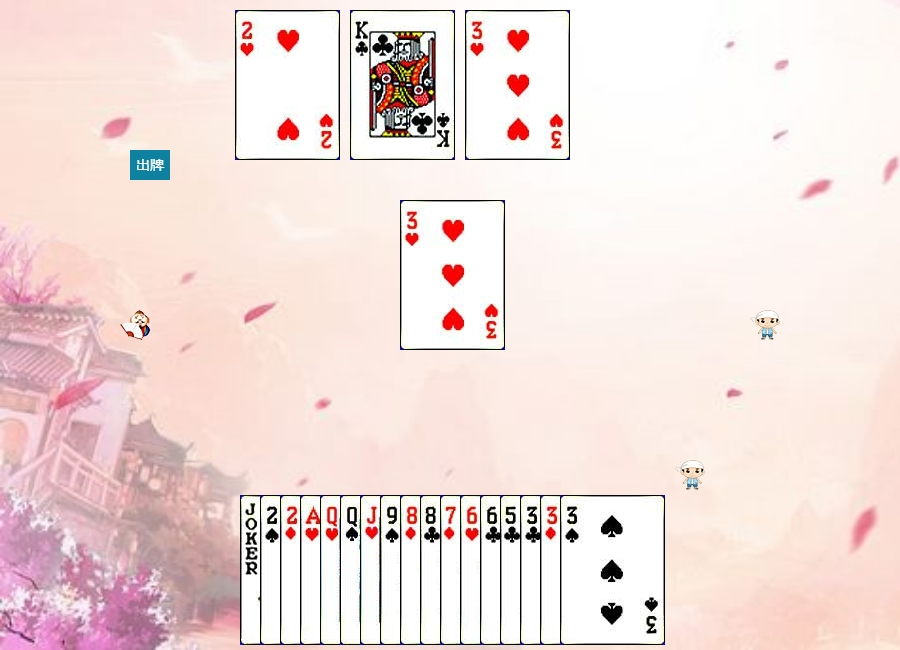11~3: (360, 495, 465, 645)
12~3: (320, 495, 425, 645)
12~4: (340, 495, 445, 645)
13~2: (350, 10, 455, 160)
14~3: (300, 495, 405, 645)
15~1: (280, 495, 385, 645)
15~3: (235, 10, 340, 160)
15~4: (260, 495, 365, 645)
17~3: (240, 495, 345, 645)
3~1: (540, 495, 645, 645)
3~2: (520, 495, 625, 645)
3~3: (465, 10, 570, 160), (400, 200, 505, 350)
3~4: (560, 495, 665, 645)
5~2: (500, 495, 605, 645)
6~2: (480, 495, 585, 645)
6~3: (460, 495, 565, 645)
7~1: (440, 495, 545, 645)
8~1: (400, 495, 505, 645)
8~2: (420, 495, 525, 645)
9~4: (380, 495, 485, 645)
